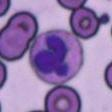N: (29, 29, 84, 84)
